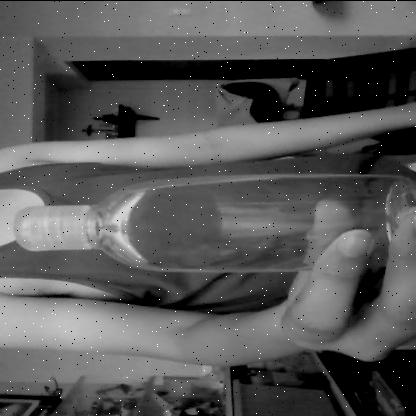Plastic Bottle: (11, 163, 416, 269)
